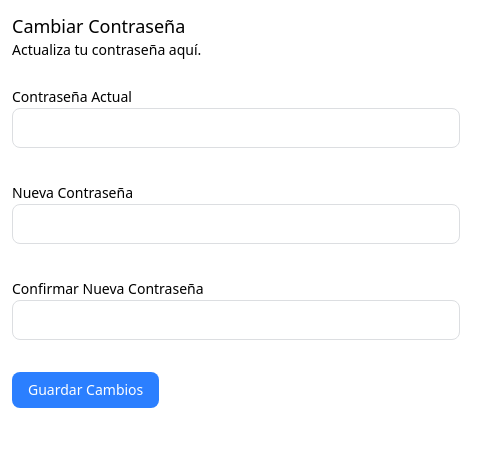
ChangePassword › should show validation error when new password is too short
Type "oldPassword123" into the password field labelled "Contraseña Actual" at (236, 128), box [12,108,460,148]
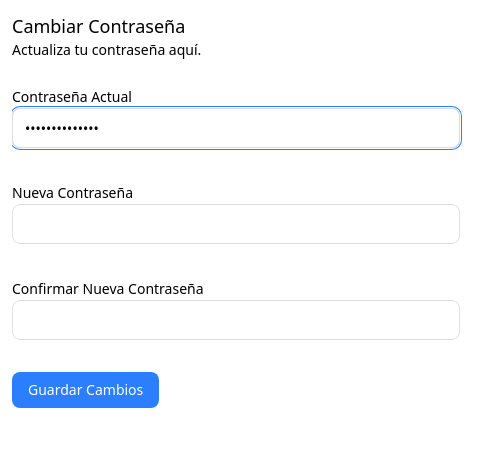
Type "short" into the password field labelled "Nueva Contraseña" at (236, 224), box [12,204,460,244]
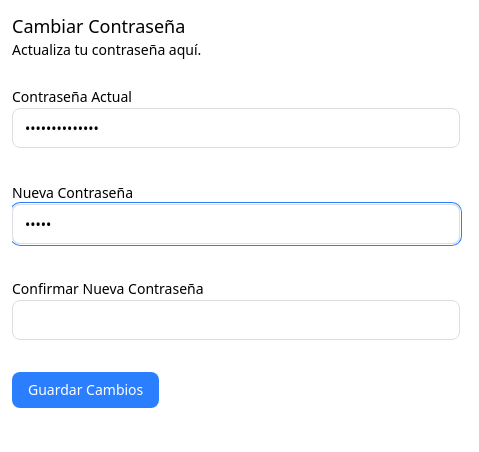
Type "short" into the password field labelled "Confirmar Nueva Contraseña" at (236, 320), box [12,300,460,340]
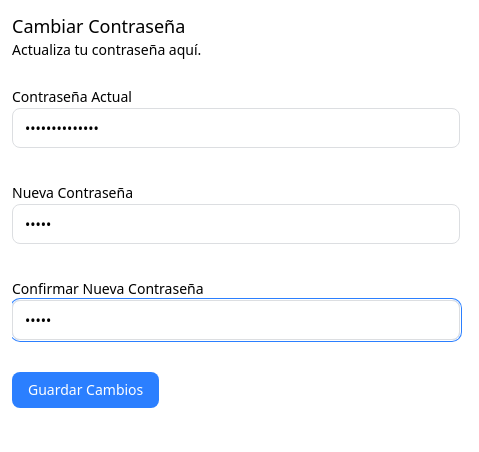
Click the button "Guardar Cambios" at (86, 390), box [12,372,159,408]
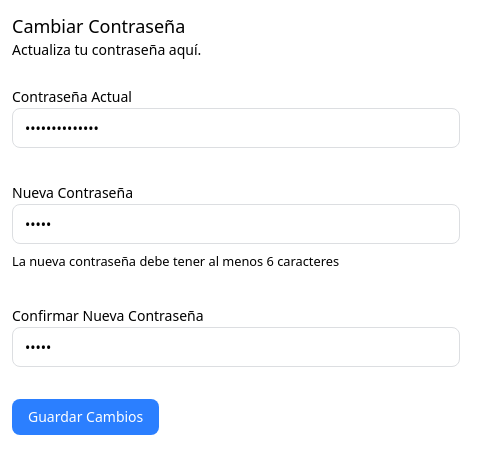
Expected: the button "Guardar Cambios" is enabled, [12,399,159,435]
Expected: the text "La nueva contraseña debe tener al menos 6 caracteres" is shown, [12,252,339,270]
